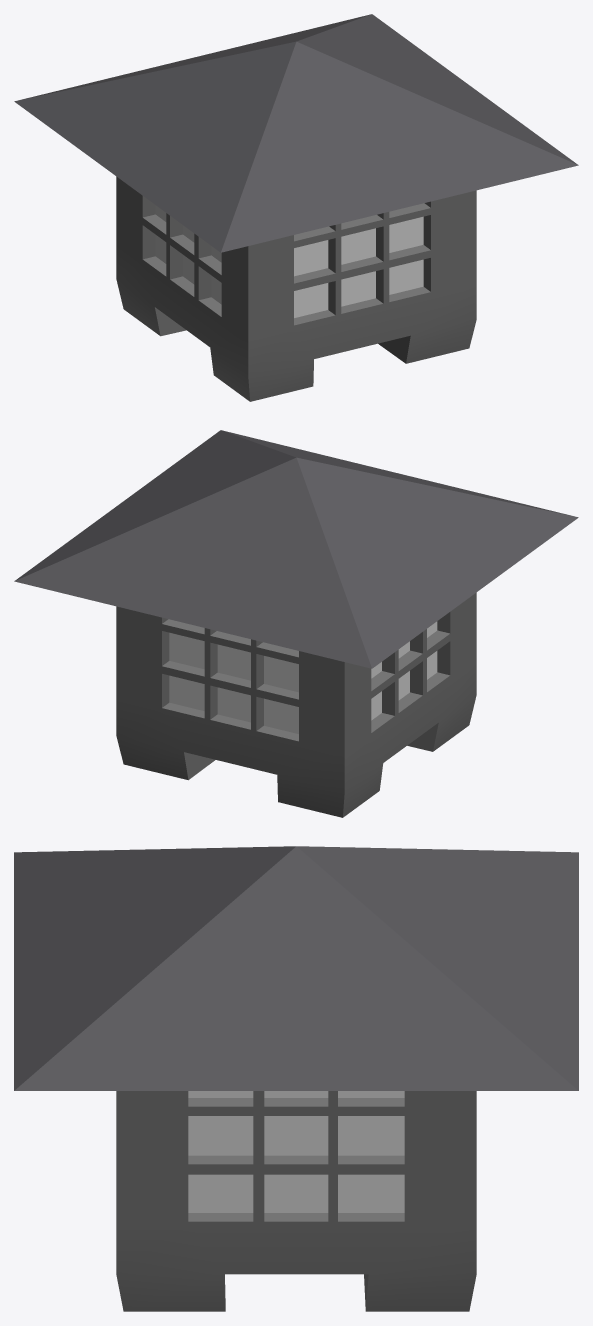
The model's file is lantern2.fbx.
The picture shows the model from 3 angles, top to bottom: view 1: azimuth 30°, elevation 25°; view 2: azimuth 150°, elevation 25°; view 3: azimuth 270°, elevation 25°; orthographic projection. The views are drawn at different scales.
Visible parts, largest first — view 1: lantern2; view 2: lantern2; view 3: lantern2.
Boxes of the visible parts, left/top/right/bottom form: lantern2: left=14, top=14, right=578, bottom=401; lantern2: left=14, top=430, right=578, bottom=817; lantern2: left=14, top=846, right=578, bottom=1311.
Size of the model in its own units: 179 by 137 by 179.
